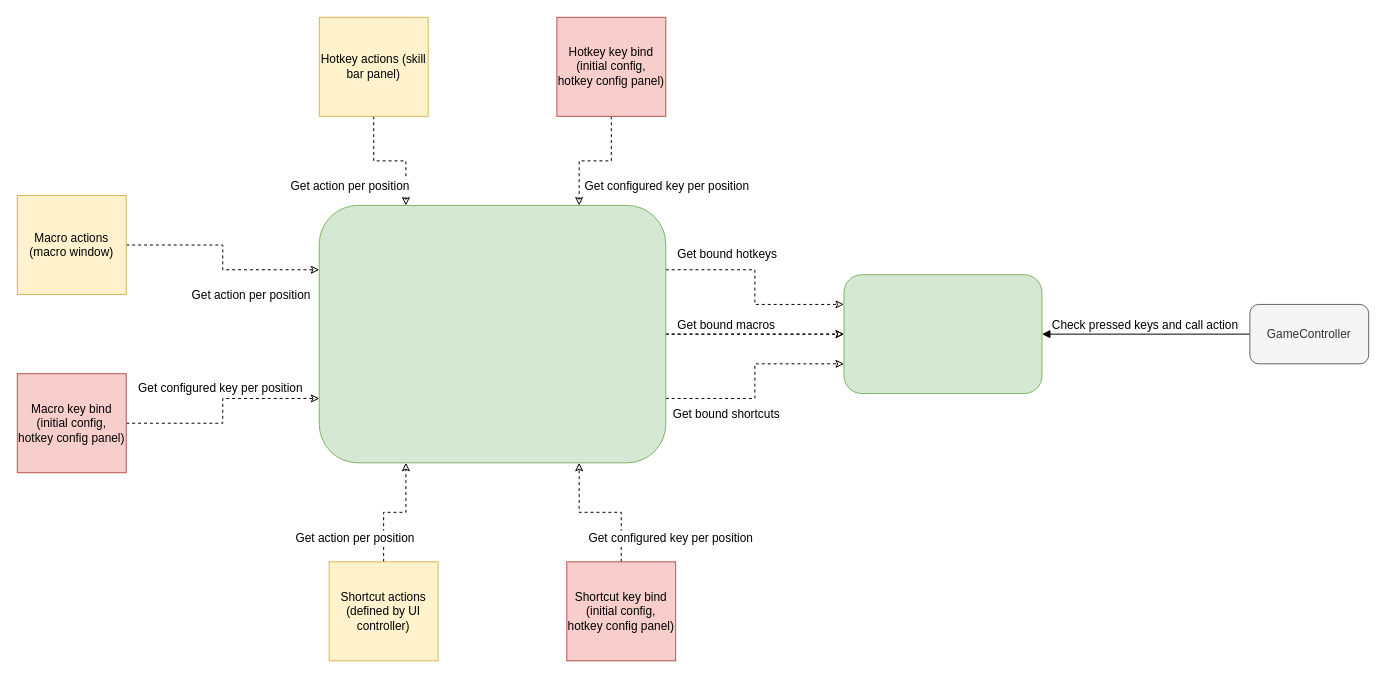
The diagram is 1386 pixels wide and 678 high, and some of its shapes have lost their labels. Here are the shapes that lost their labels. From the top down, the centre of each, then its label:
At (x=492, y=333): "Key Binder (Static)".
At (x=942, y=334): "InputControllerKeyboard".
